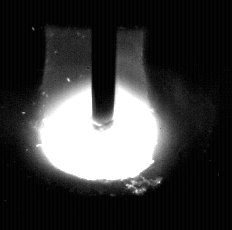arame: (93, 0, 116, 133)
poca: (37, 0, 160, 230)
